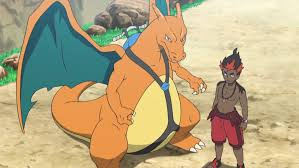charizard: (24, 3, 207, 166)
